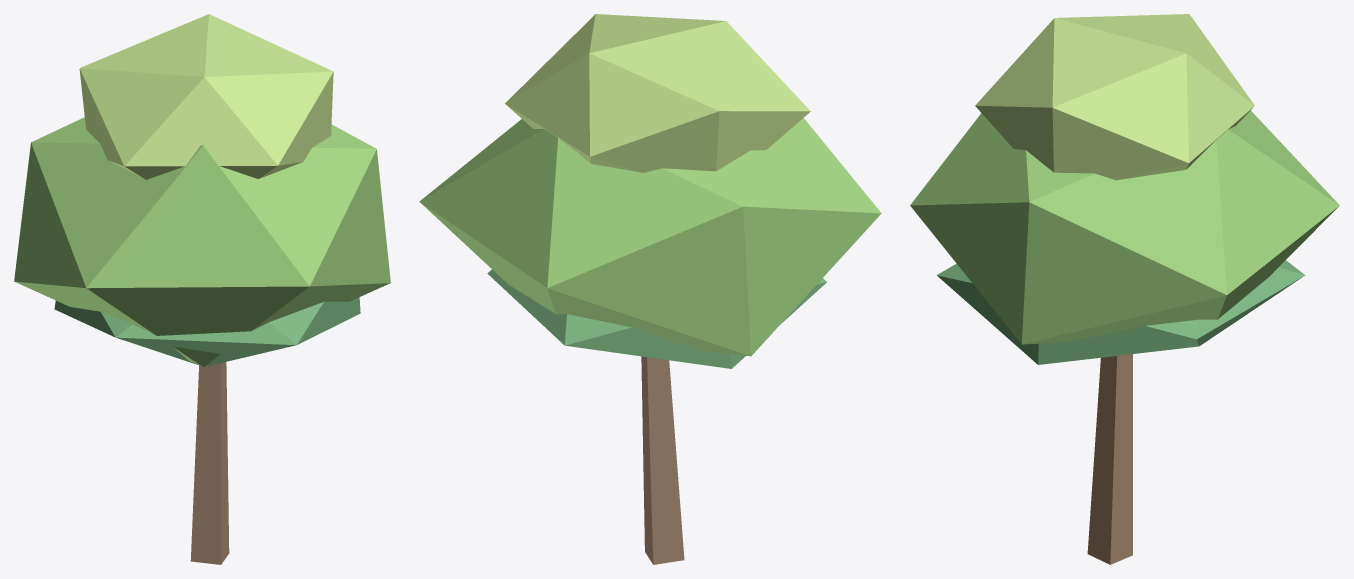
File: arvore_copa_1_lod.fbx
3 views of the same model, side by side, from view 1: azimuth 30°, elevation 25°; view 2: azimuth 150°, elevation 25°; view 3: azimuth 270°, elevation 25° (orthographic). The views are drawn at different scales.
Visible parts, largest first — view 1: arvore_copa_1_lod~Copa@leaf, arvore_copa_1_lod~Copa 0@leaflight, arvore_copa_1_lod~Copa 1@leafdark, arvore_copa_1_lod~Tronco@bark; view 2: arvore_copa_1_lod~Copa@leaf, arvore_copa_1_lod~Copa 0@leaflight, arvore_copa_1_lod~Tronco@bark, arvore_copa_1_lod~Copa 1@leafdark; view 3: arvore_copa_1_lod~Copa@leaf, arvore_copa_1_lod~Copa 0@leaflight, arvore_copa_1_lod~Tronco@bark, arvore_copa_1_lod~Copa 1@leafdark.
Boxes of the visible parts, box(x1,y1,x2,y2) form: arvore_copa_1_lod~Copa@leaf: box(14, 117, 390, 367); arvore_copa_1_lod~Copa 0@leaflight: box(79, 14, 333, 179); arvore_copa_1_lod~Copa 1@leafdark: box(54, 297, 360, 366); arvore_copa_1_lod~Tronco@bark: box(190, 362, 229, 564); arvore_copa_1_lod~Copa@leaf: box(419, 118, 881, 356); arvore_copa_1_lod~Copa 0@leaflight: box(505, 14, 810, 172); arvore_copa_1_lod~Tronco@bark: box(641, 356, 684, 564); arvore_copa_1_lod~Copa 1@leafdark: box(487, 269, 826, 368); arvore_copa_1_lod~Copa@leaf: box(910, 110, 1339, 344); arvore_copa_1_lod~Copa 0@leaflight: box(975, 14, 1254, 180); arvore_copa_1_lod~Tronco@bark: box(1087, 354, 1132, 564); arvore_copa_1_lod~Copa 1@leafdark: box(937, 260, 1305, 364).
Size of the model in its own units: 9.07 by 12.63 by 9.45.
